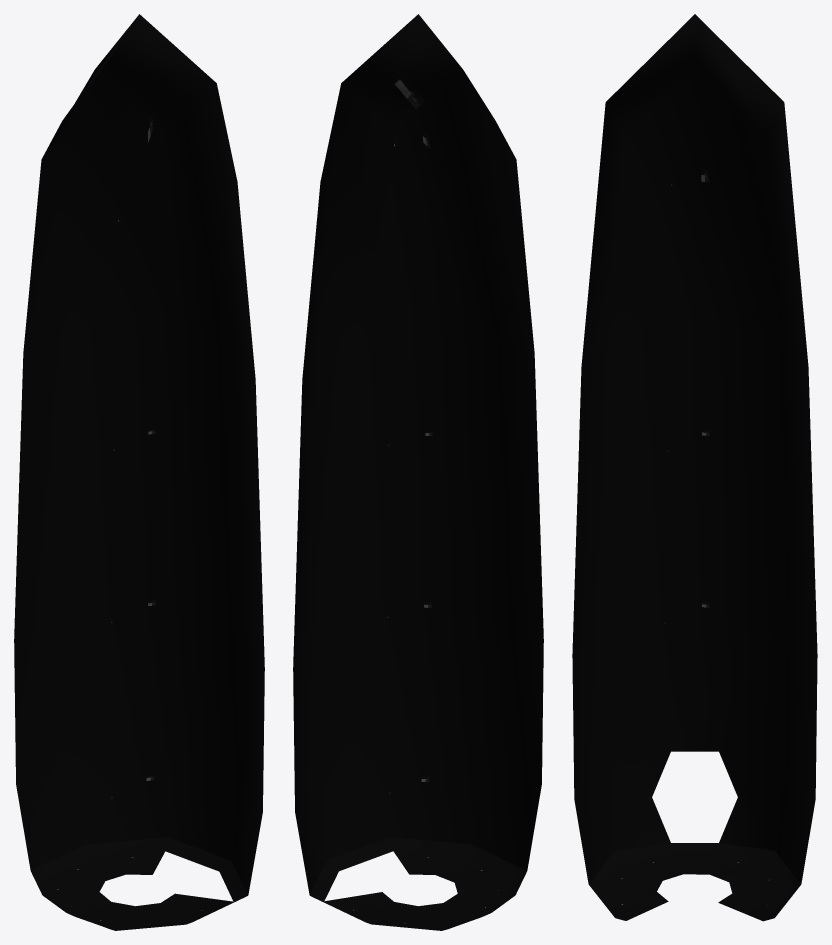
The model's file is colony-egg-art.glb.
The picture shows the model from 3 angles, left to right: view 1: azimuth 30°, elevation 25°; view 2: azimuth 150°, elevation 25°; view 3: azimuth 270°, elevation 25°; orthographic projection.
Parts seen in each view (by area): view 1: Colony_Egg_Art; view 2: Colony_Egg_Art; view 3: Colony_Egg_Art.
Part boxes in pixels (x1=…): Colony_Egg_Art: x1=14, y1=14, x2=264, y2=930; Colony_Egg_Art: x1=293, y1=14, x2=543, y2=930; Colony_Egg_Art: x1=572, y1=14, x2=817, y2=921.
Bounding box in the file's own units: 15.03 × 59.41 × 15.03.
Materials: 1 (1 with a texture image).
